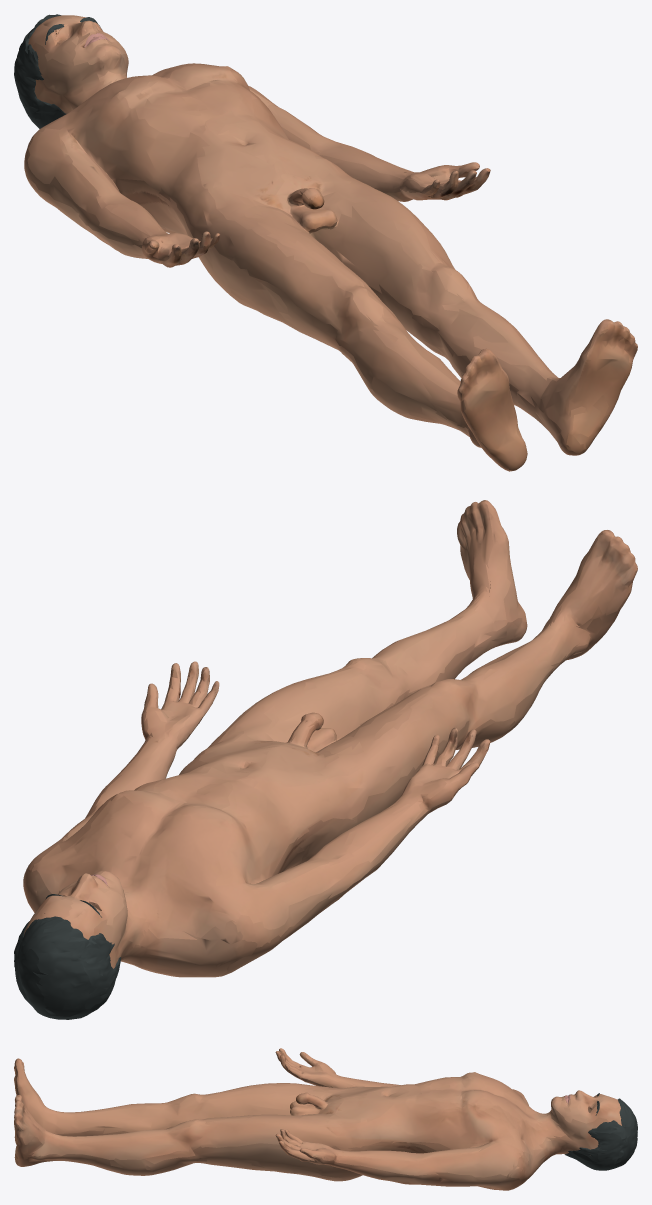
Rendered from zhou-supine.glb.
3 renders of one model, top to bottom at view 1: azimuth 30°, elevation 25°; view 2: azimuth 150°, elevation 25°; view 3: azimuth 270°, elevation 25°, orthographic. The views are drawn at different scales.
Visible parts, largest first — view 1: FJ2810, FJ2813; view 2: FJ2810, FJ2813; view 3: FJ2810, FJ2813.
Part boxes in pixels (box(x1,y1,x2,y2)): FJ2810: box(24, 15, 637, 471); FJ2813: box(14, 14, 66, 128); FJ2810: box(23, 500, 637, 977); FJ2813: box(14, 916, 121, 1019); FJ2810: box(14, 1048, 621, 1190); FJ2813: box(565, 1098, 637, 1170).
Size of what is drawn, in the model's own units: 0.6448 by 0.292 by 1.73.
Materials: 3 (1 with a texture image).
